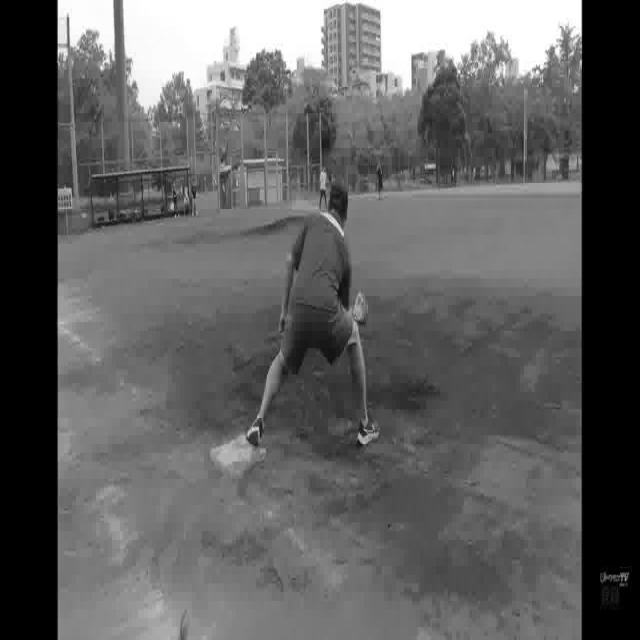base: (212, 435, 268, 480)
baseball_glove: (352, 290, 372, 324)
shoe: (356, 419, 382, 453), (248, 417, 264, 444)
